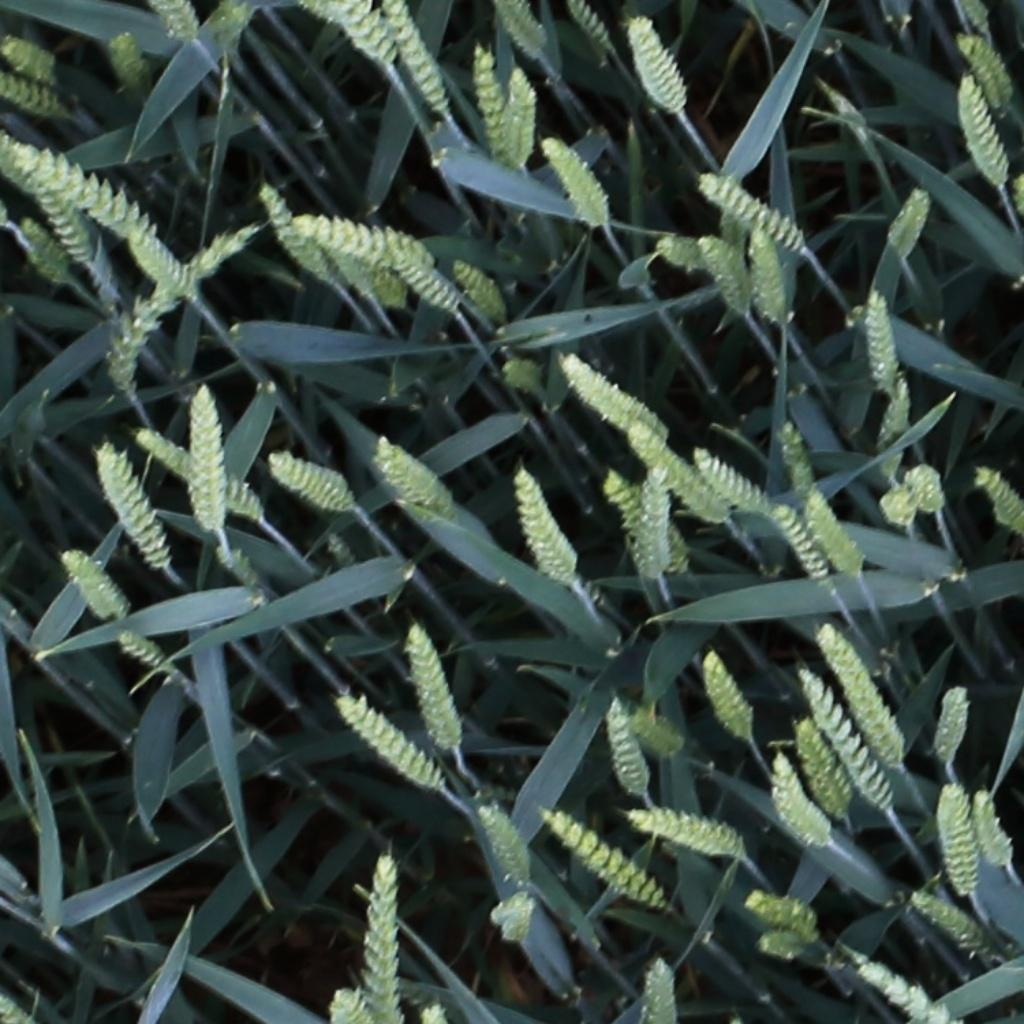0-0: (108, 226, 253, 390), (130, 419, 282, 531), (18, 129, 158, 243), (806, 623, 913, 771), (543, 808, 673, 914), (802, 681, 901, 807), (333, 692, 447, 794), (4, 139, 98, 262), (94, 443, 174, 573), (623, 424, 729, 521), (847, 953, 982, 1024), (782, 716, 864, 826), (561, 353, 667, 434), (382, 1, 454, 120), (255, 177, 335, 281), (404, 619, 464, 756), (701, 170, 806, 248), (609, 466, 680, 580), (513, 461, 573, 585), (540, 128, 615, 226), (767, 752, 841, 851), (16, 216, 91, 303), (302, 210, 432, 260), (629, 10, 689, 116), (957, 70, 1010, 188), (804, 483, 868, 580), (912, 892, 1004, 959), (125, 234, 216, 301), (375, 439, 456, 514), (786, 490, 850, 584), (117, 629, 199, 701), (930, 778, 977, 903), (692, 445, 774, 516), (701, 647, 757, 746), (473, 800, 536, 888), (365, 847, 398, 1015), (189, 383, 225, 535), (658, 231, 758, 285), (774, 499, 834, 587), (317, 0, 406, 59), (58, 548, 128, 622), (630, 812, 745, 857), (471, 45, 513, 166), (955, 30, 1014, 113), (697, 232, 755, 316), (606, 701, 652, 804), (268, 454, 354, 509), (389, 247, 461, 311), (449, 252, 510, 324), (750, 225, 790, 327), (969, 787, 1015, 875), (972, 464, 1024, 540), (779, 416, 820, 502), (891, 180, 935, 259), (868, 285, 899, 394), (745, 883, 820, 928), (875, 376, 916, 458), (566, 0, 621, 61), (935, 684, 972, 770), (506, 64, 536, 170), (881, 468, 932, 530), (107, 27, 151, 98), (640, 470, 668, 581), (0, 62, 62, 111), (501, 0, 548, 57), (913, 463, 953, 523), (629, 715, 686, 757), (0, 33, 55, 75), (649, 951, 677, 1024), (157, 0, 200, 47), (322, 525, 360, 578), (501, 891, 536, 946), (371, 265, 407, 318), (336, 255, 370, 308), (331, 983, 370, 1024), (958, 0, 996, 39), (0, 988, 30, 1024)
